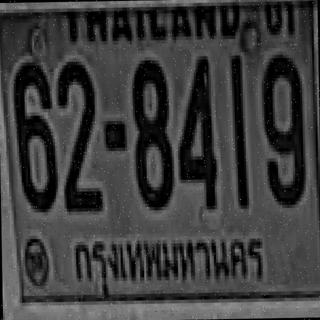N01: (229, 54, 247, 207)
N02: (56, 59, 100, 210)
N04: (176, 52, 215, 206)
N06: (12, 59, 57, 209)
N08: (132, 57, 172, 207)
N09: (261, 51, 304, 205)
P04: (68, 226, 270, 298)
